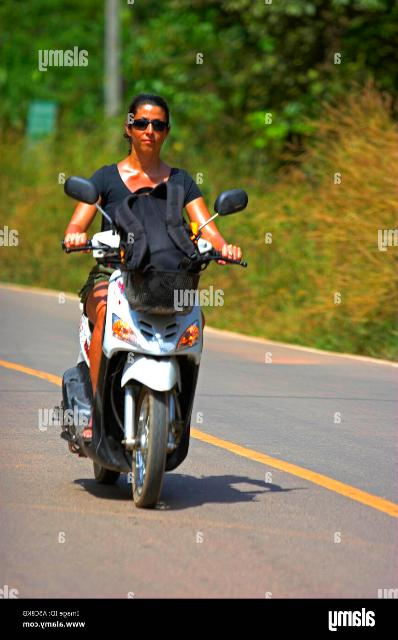motor: (62, 176, 255, 510)
non-helm: (125, 95, 172, 155)
